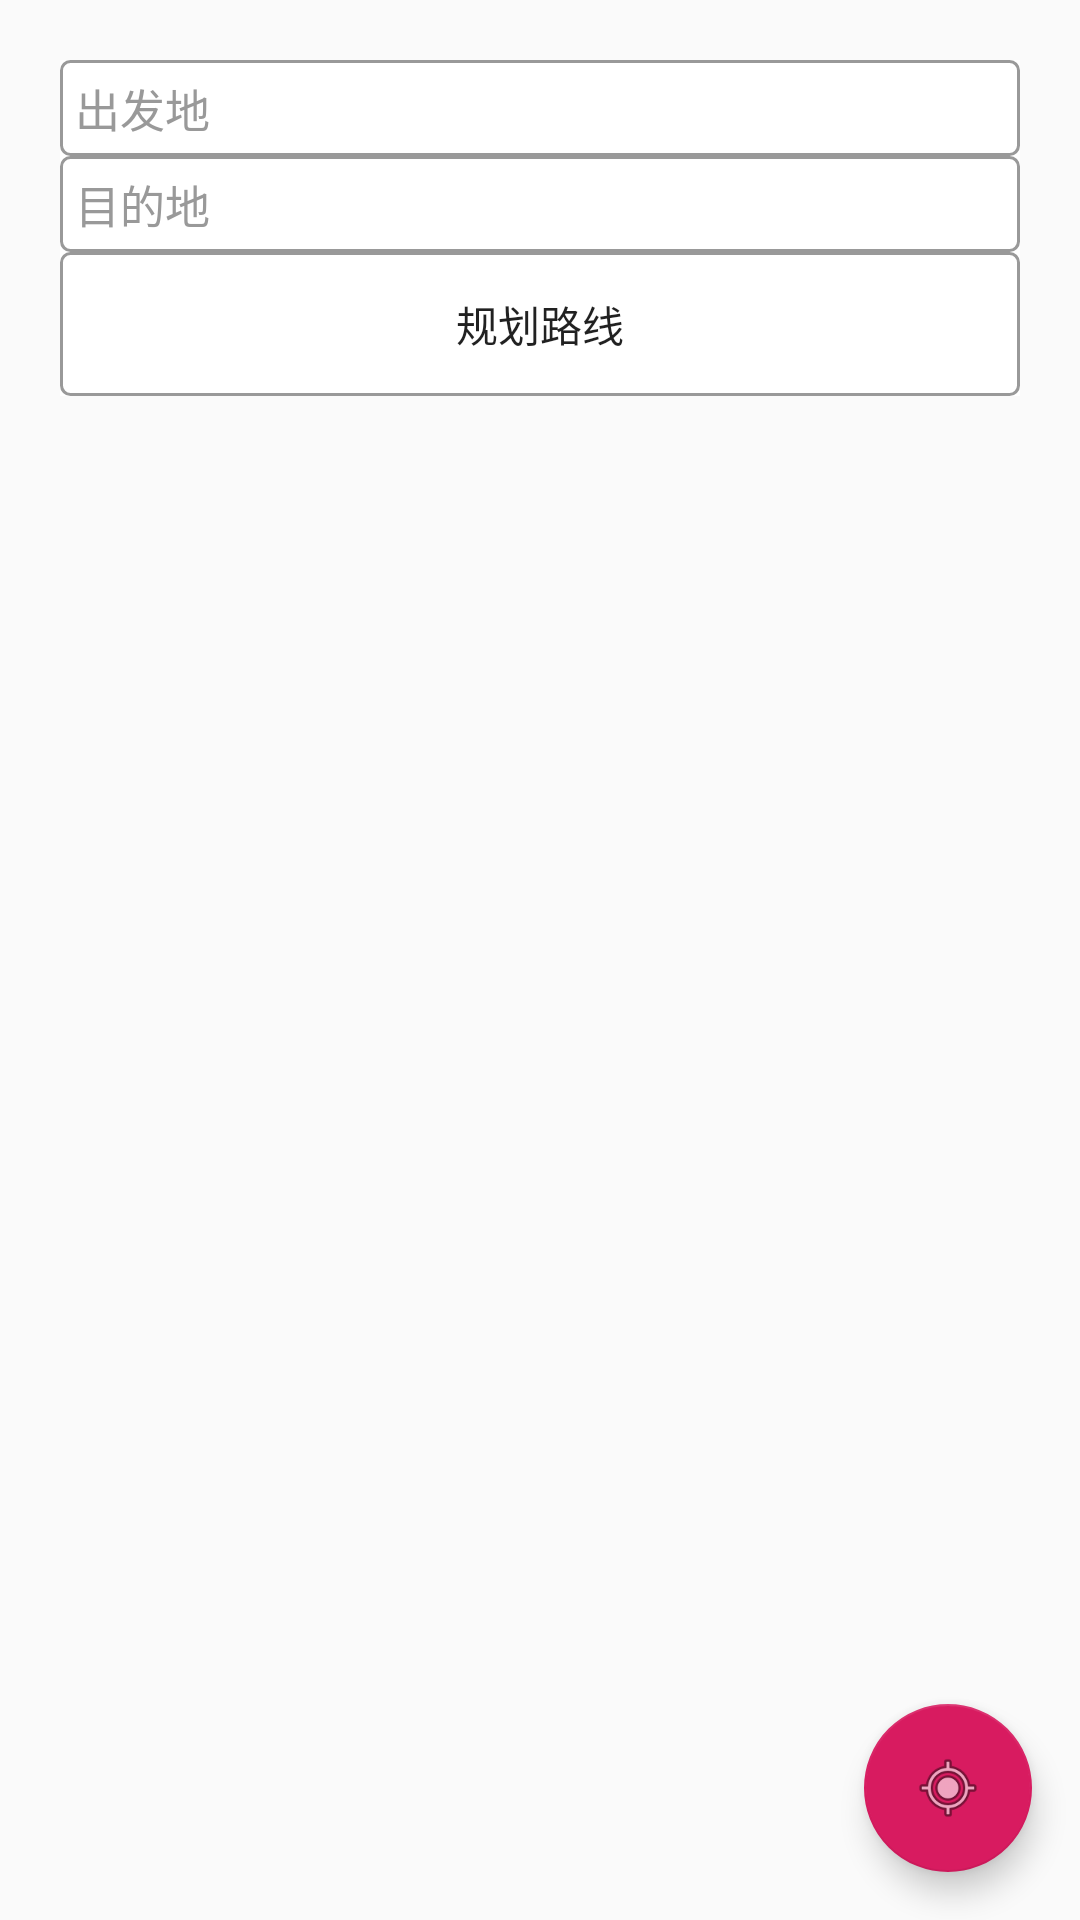

Named icons in this screenshot (1080*1920) and their bounding boxes, Rect(x1, y1, x2, y2):
mylocation: Rect(864, 1704, 1032, 1872)
